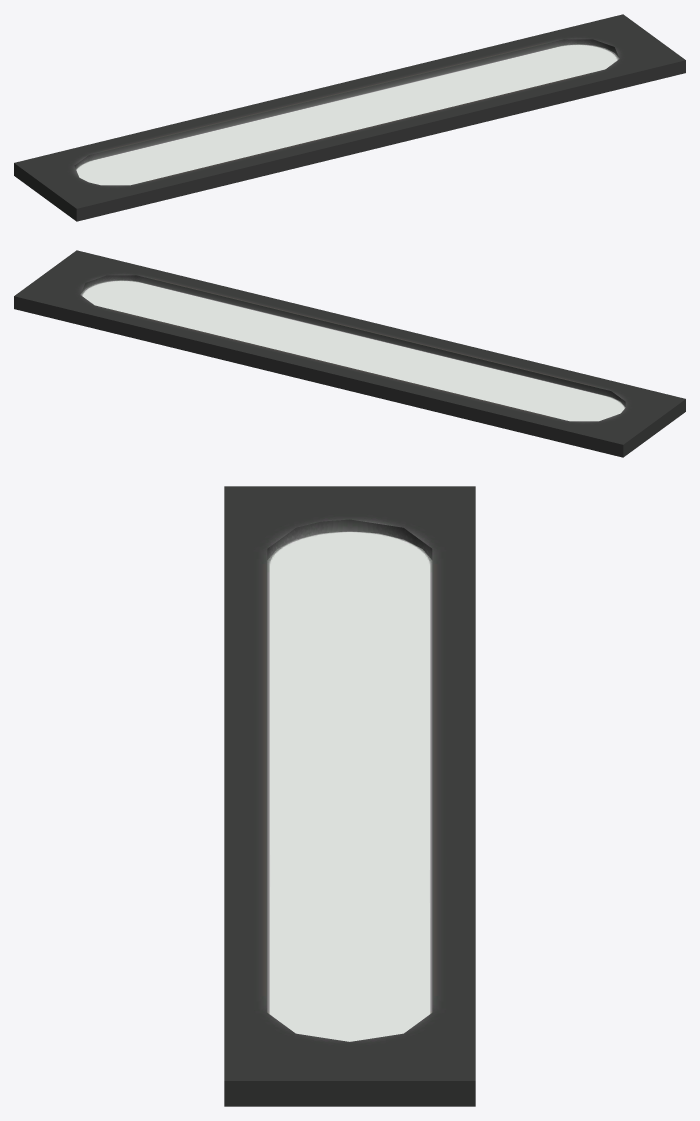
File: light_strip.obj
3 renders of one model, top to bottom at view 1: azimuth 30°, elevation 25°; view 2: azimuth 150°, elevation 25°; view 3: azimuth 270°, elevation 25°, orthographic. The views are drawn at different scales.
Visible parts, largest first — view 1: light_strip; view 2: light_strip; view 3: light_strip.
Boxes of the visible parts, <box> form: light_strip: <box>14,14,685,221</box>; light_strip: <box>14,250,685,457</box>; light_strip: <box>224,486,475,1106</box>.
Size of the model in its own units: 0.9528 by 0.0192 by 0.17.
1 material, 1 textured.
